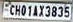character: (38, 4, 44, 17), (14, 4, 20, 16), (20, 4, 26, 16), (45, 5, 51, 17), (51, 5, 57, 17), (57, 6, 63, 17), (9, 4, 14, 15), (27, 5, 32, 16), (64, 6, 69, 17)
